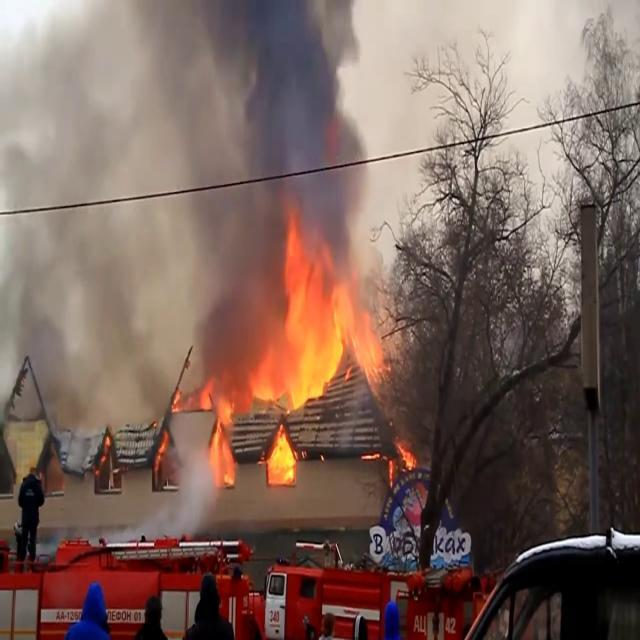Fire: (252, 226, 390, 410), (200, 378, 238, 492), (266, 424, 298, 486)
Smoke: (0, 0, 388, 396)
